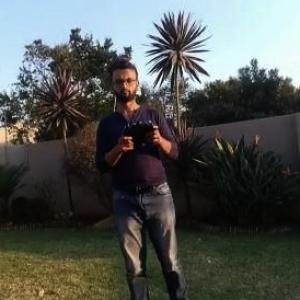follow: (95, 50, 200, 299)
